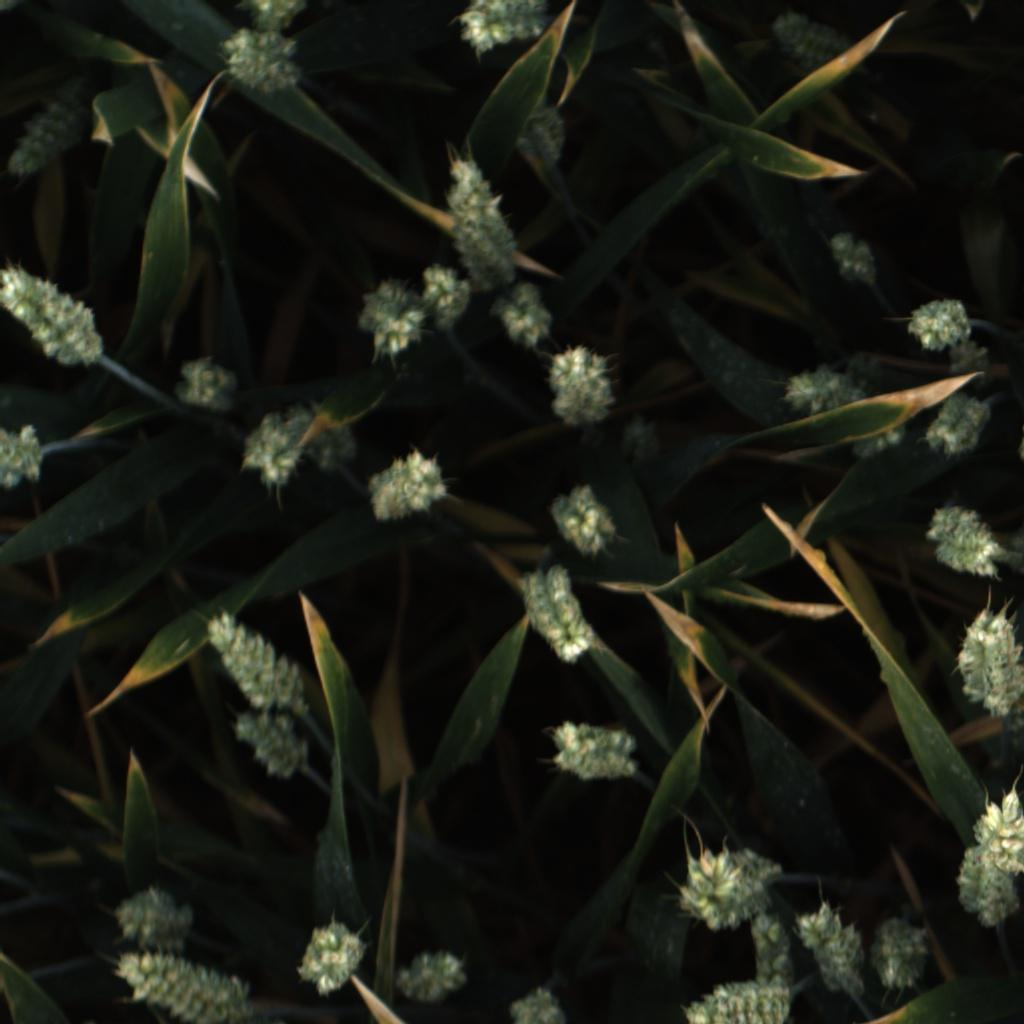0-0: (199, 605, 318, 716), (438, 152, 529, 293), (0, 256, 109, 372), (672, 845, 788, 937), (115, 948, 247, 1024), (511, 560, 604, 665), (946, 609, 1024, 723), (366, 442, 454, 530), (793, 898, 869, 998), (544, 714, 642, 787), (923, 503, 1010, 582), (543, 341, 620, 429), (289, 918, 372, 999), (282, 397, 362, 481), (10, 89, 84, 179), (229, 706, 313, 785), (954, 838, 1024, 930), (109, 882, 203, 950), (508, 98, 581, 185), (741, 894, 806, 991), (218, 26, 305, 98), (547, 479, 622, 558), (962, 780, 1024, 874), (357, 276, 427, 359), (451, 0, 556, 55), (679, 977, 799, 1024), (871, 915, 934, 999), (782, 353, 866, 414), (391, 946, 471, 1009), (894, 294, 976, 355), (921, 393, 994, 461), (243, 411, 307, 488), (769, 13, 849, 69), (819, 223, 886, 289), (493, 284, 562, 348), (172, 349, 239, 413), (936, 334, 1003, 394), (416, 264, 471, 337), (0, 414, 49, 494), (498, 981, 574, 1024), (842, 416, 908, 465), (235, 0, 309, 40), (622, 413, 658, 466)
